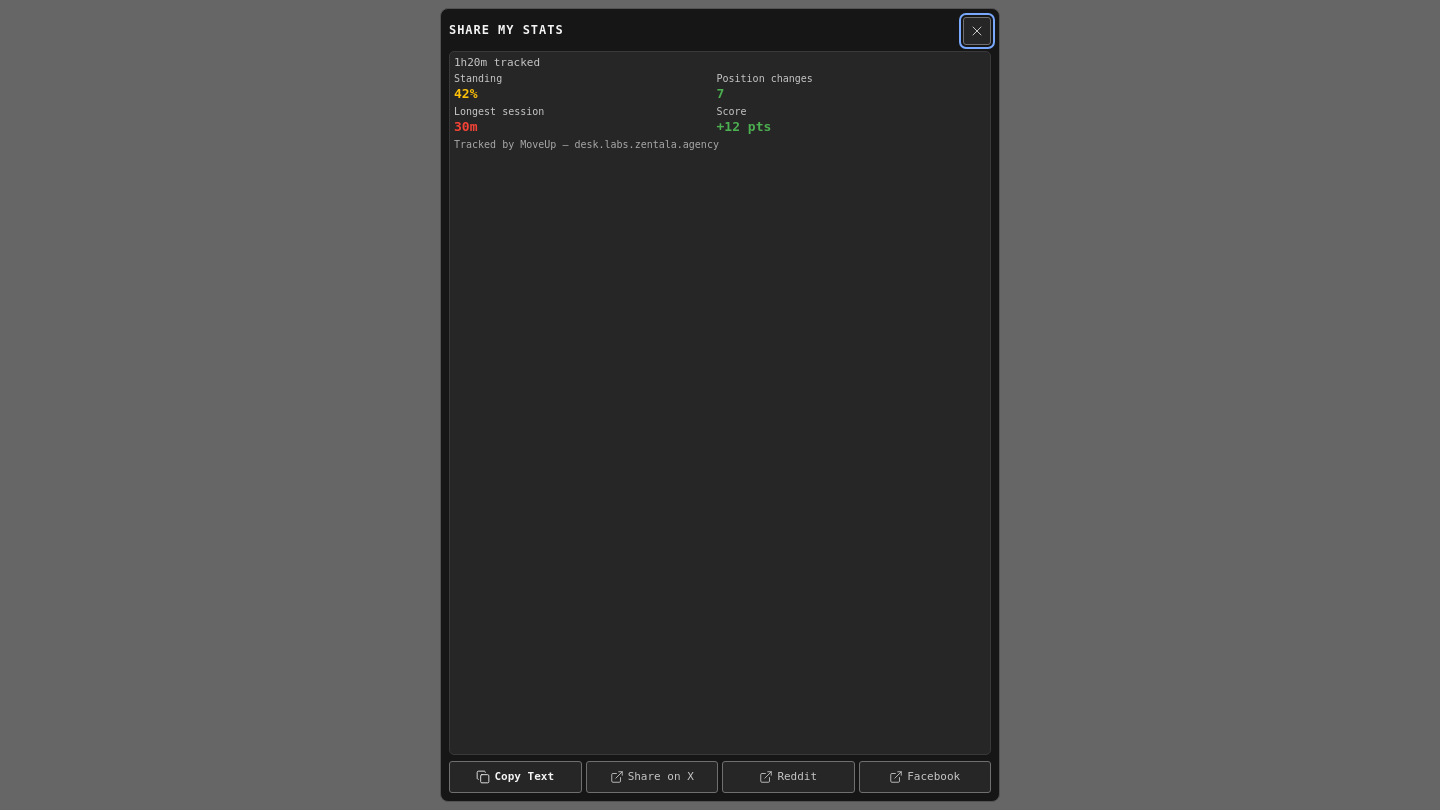
Test: ShareStats › opens X through the registered native command without browser fallback
Click the button "Share on X": (652, 777) [586,761,718,793]
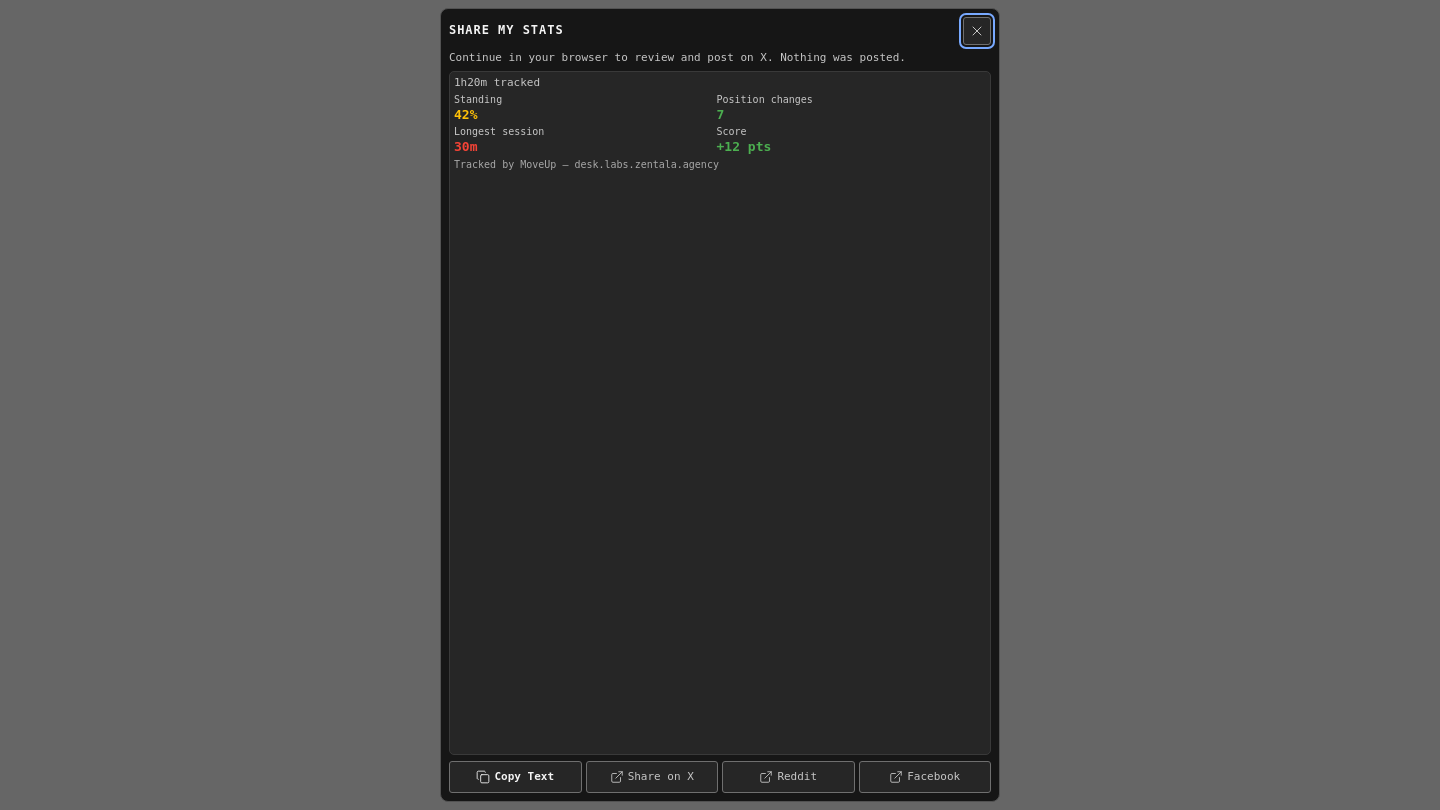
expect the message "Continue in your browser to review and post on X. Nothing was posted." is shown: met, box [449,51,906,64]
